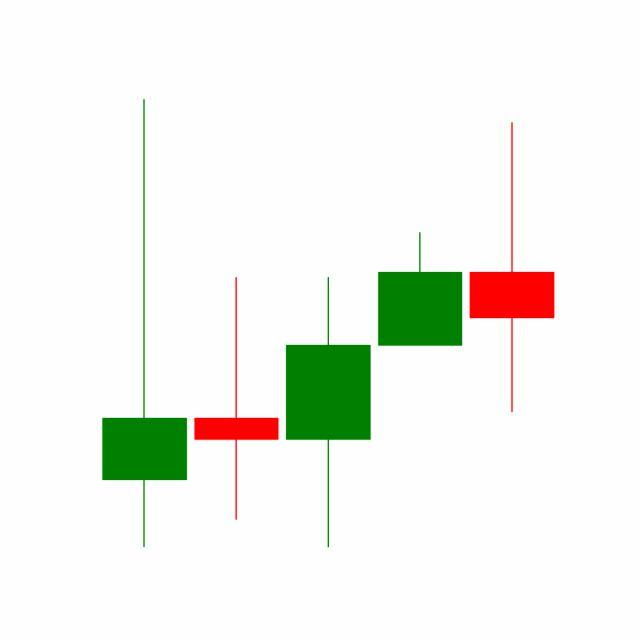Spinning Top: (466, 120, 559, 417)
